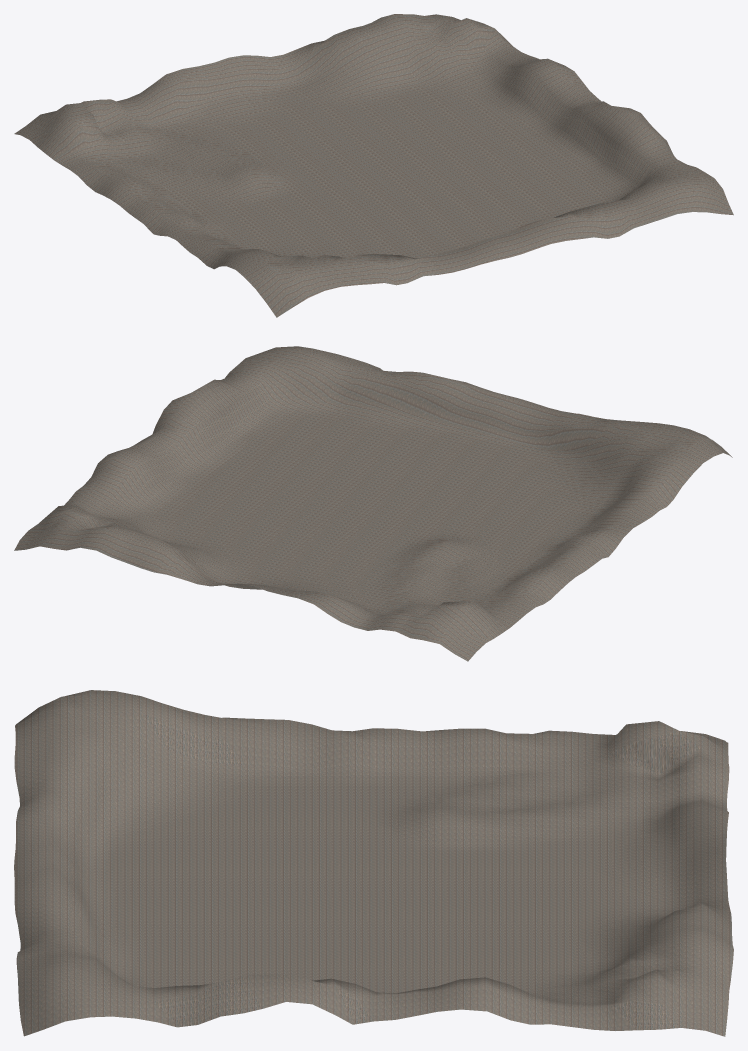
Rendered from bigground.fbx.
3 renders of one model, top to bottom at view 1: azimuth 30°, elevation 25°; view 2: azimuth 150°, elevation 25°; view 3: azimuth 270°, elevation 25°, orthographic. The views are drawn at different scales.
Parts seen in each view (by area): view 1: Plane; view 2: Plane; view 3: Plane.
Boxes of the visible parts, box(x1,y1,x2,y2) form: Plane: box(14, 14, 733, 317); Plane: box(14, 346, 732, 661); Plane: box(14, 690, 733, 1036).
Size of the model in its own units: 103548 by 8533 by 102788.
Materials: 1 (1 with a texture image).
